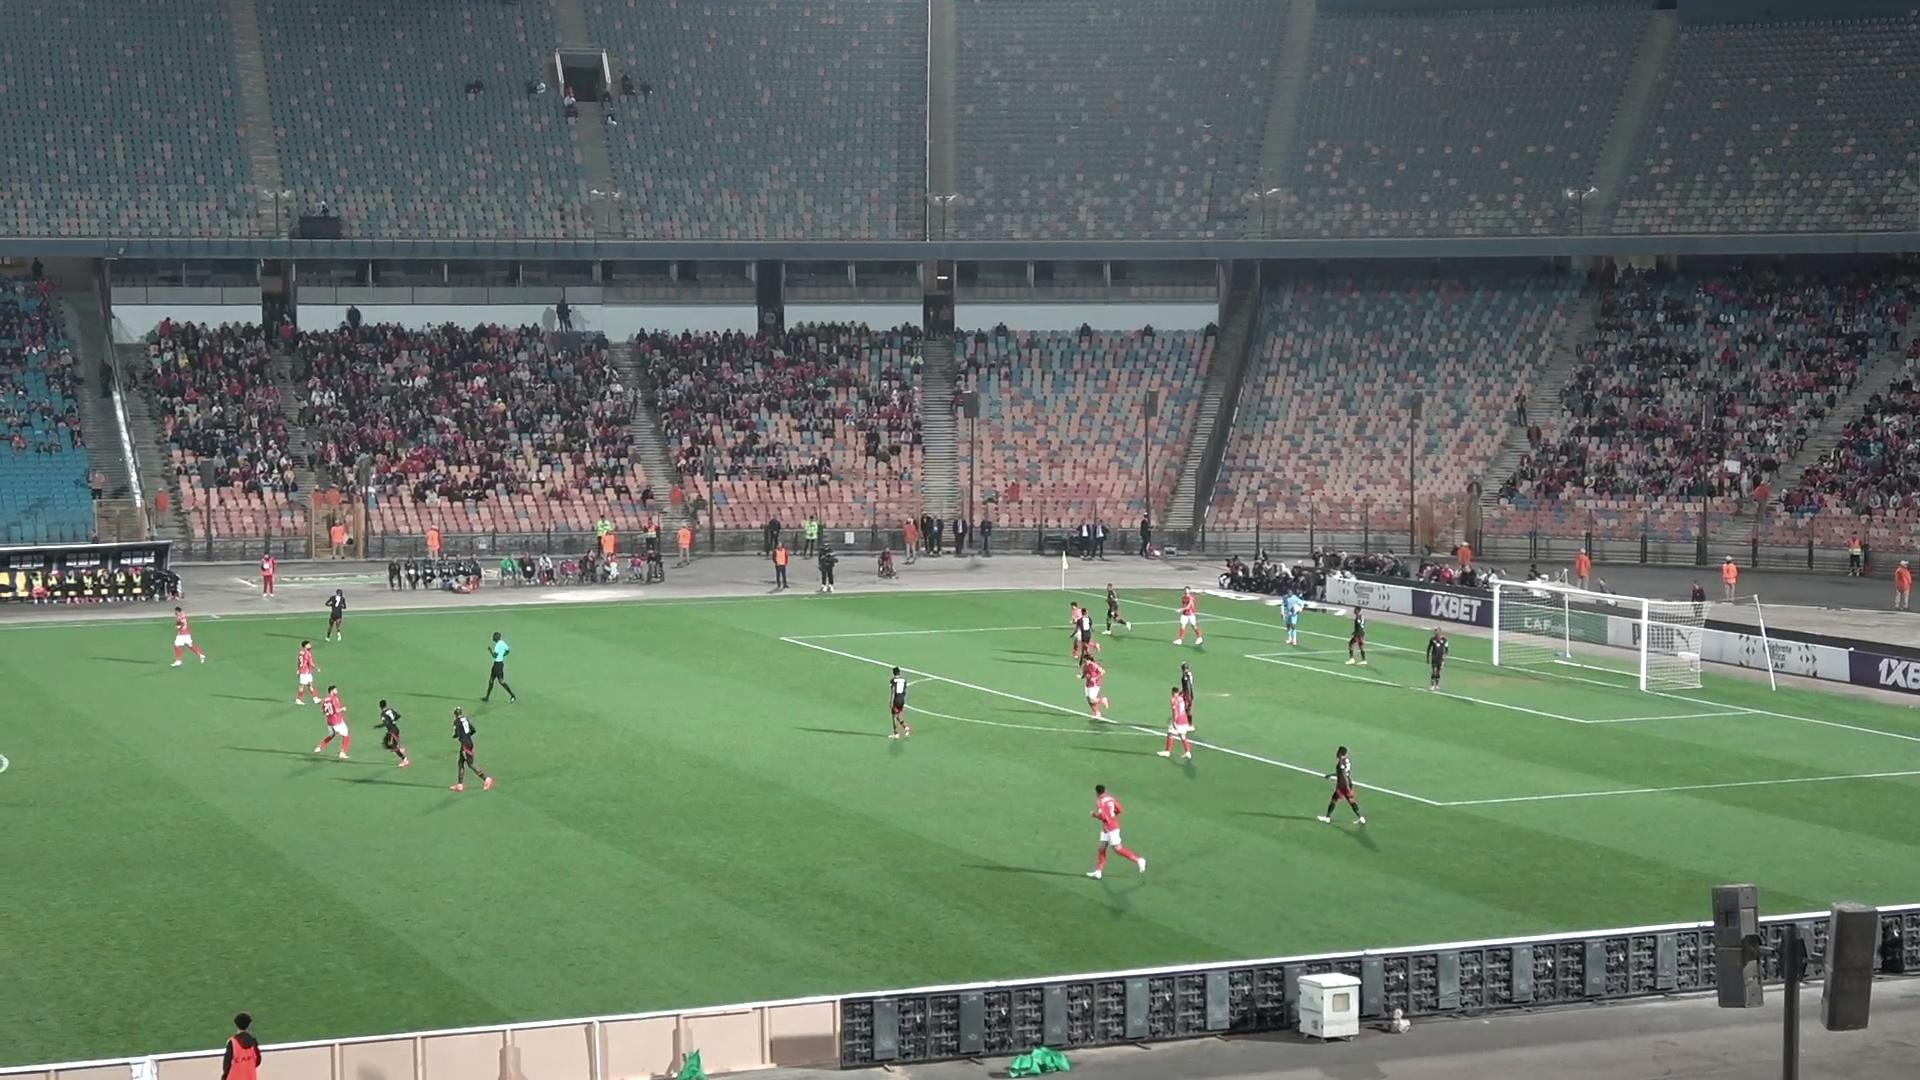GK2: (1276, 589, 1305, 646)
Refree: (479, 632, 518, 702)
Team1: (1087, 786, 1146, 878), (1156, 686, 1195, 760), (314, 686, 349, 760), (1076, 655, 1109, 719), (171, 607, 206, 667), (293, 641, 322, 704), (1172, 587, 1203, 644)
Team2: (1317, 746, 1366, 824), (375, 699, 411, 767), (448, 738, 496, 791), (887, 667, 913, 738), (1071, 603, 1100, 662), (1425, 626, 1449, 691), (1104, 585, 1131, 632), (1345, 608, 1367, 665), (324, 589, 348, 640), (1168, 661, 1199, 699)
